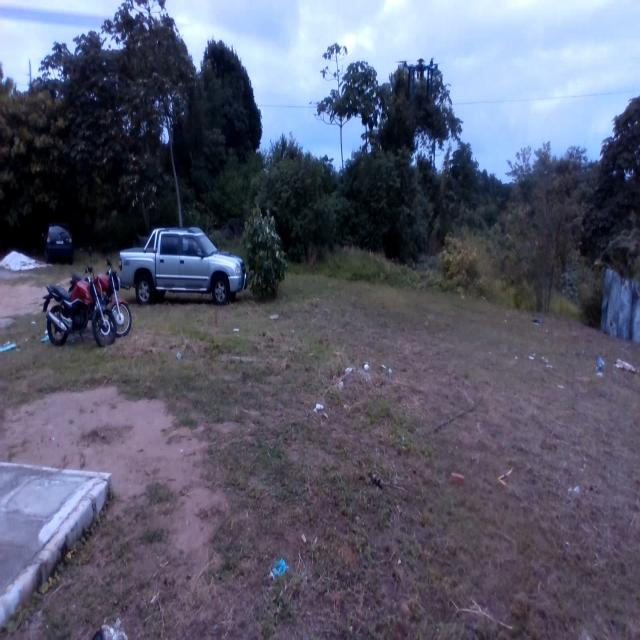-uav-: (391, 50, 447, 107)
